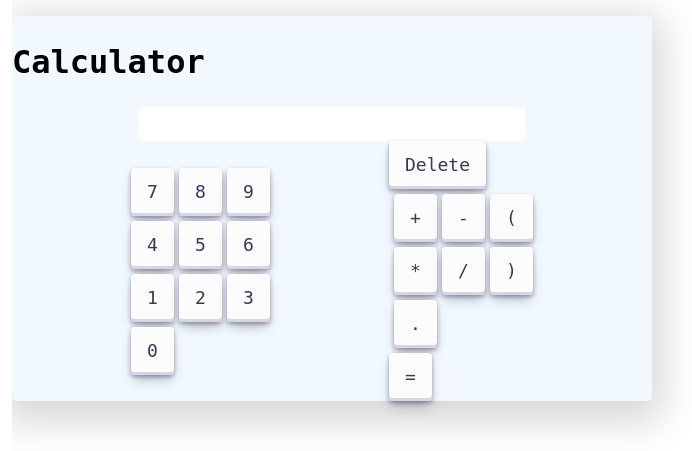
Scenario: Calculator › Should user input after clicking several number
The image size is (692, 451).
Click the button "1" at (153, 298), box [131,274,174,322]
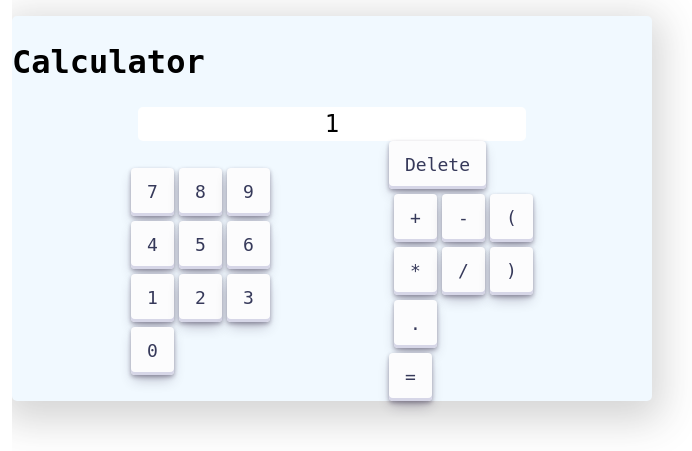
Click the button "2" at (201, 298), box [179,274,222,322]
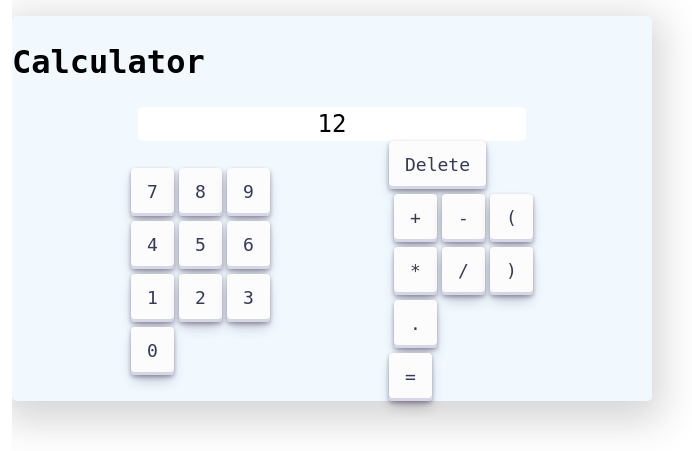
Click the button "3" at (248, 298), box [227,274,270,322]
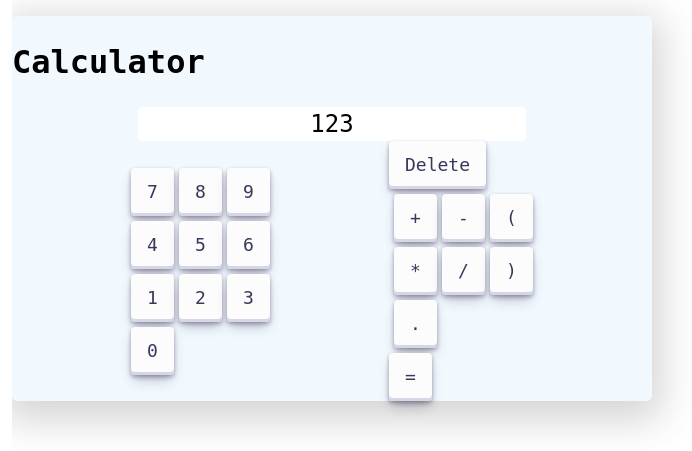
Result: the field holds "123" at [138,107,526,141]
